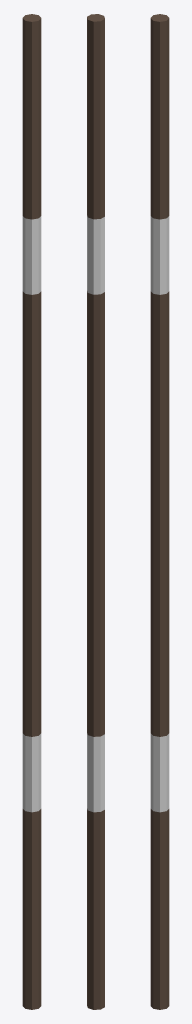
The model's file is MESH_Staff_01 (1).fbx.
3 views of the same model, side by side, from view 1: azimuth 90°, elevation 25°; view 2: azimuth 210°, elevation 25°; view 3: azimuth 270°, elevation 25° (orthographic).
Parts seen in each view (by area): view 1: GEO_Staff; view 2: GEO_Staff; view 3: GEO_Staff.
Part boxes in pixels (x1,y1,x2,y2): GEO_Staff: (22, 14, 41, 1009); GEO_Staff: (87, 14, 104, 1009); GEO_Staff: (150, 14, 169, 1009).
Size of the model in its own units: 8.59 by 497 by 8.59.
